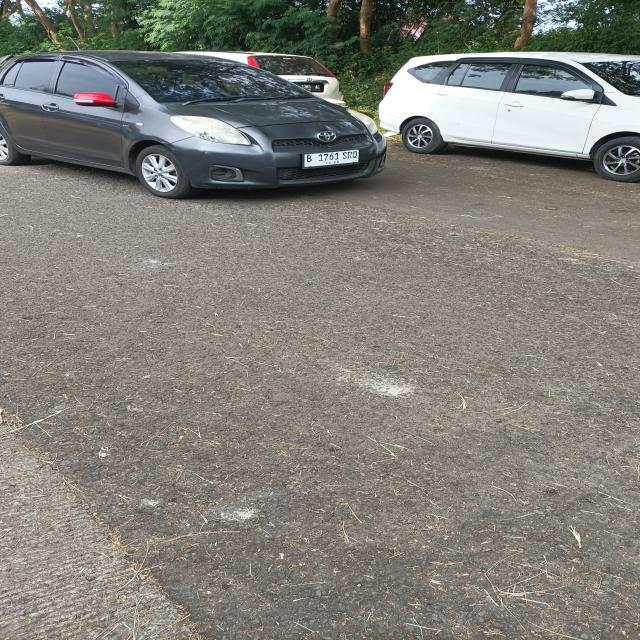license-plat: (298, 148, 363, 171)
